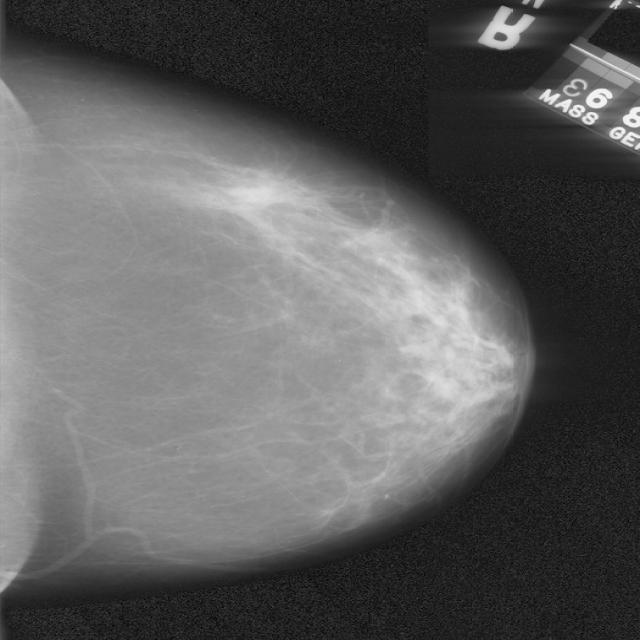tumour: (204, 174, 301, 209)
